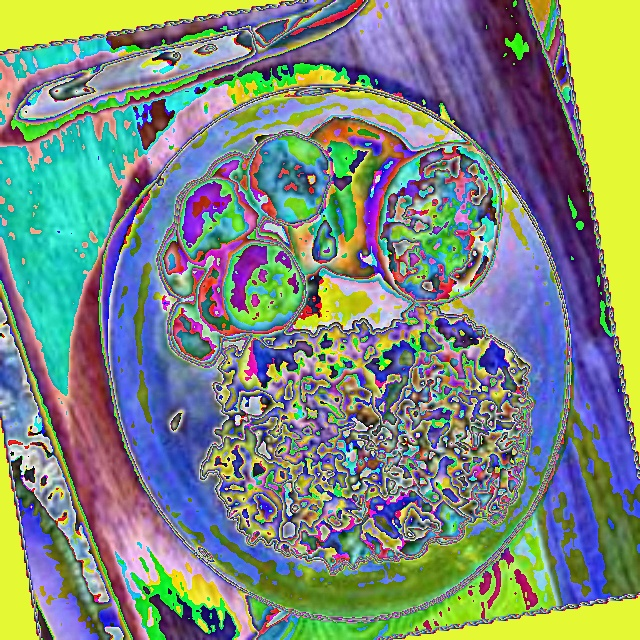background: (155, 115, 534, 574)
